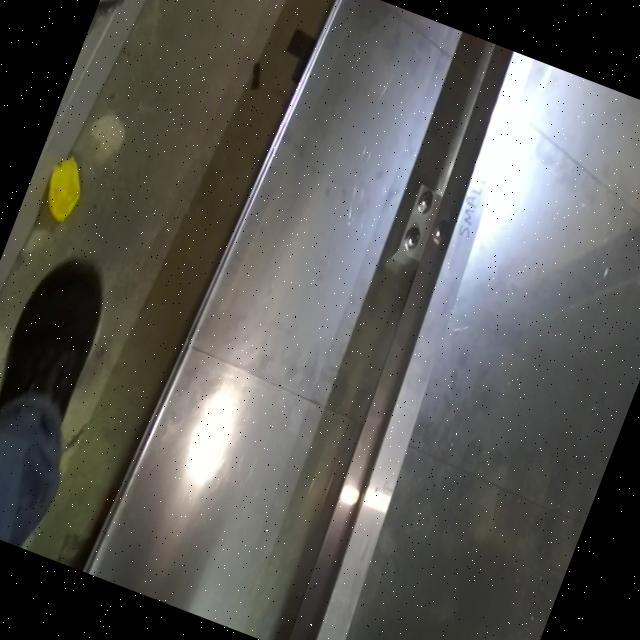blocks: (370, 170, 504, 319)
